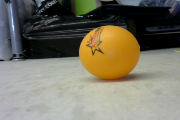PingPongBall: (80, 26, 140, 80)
